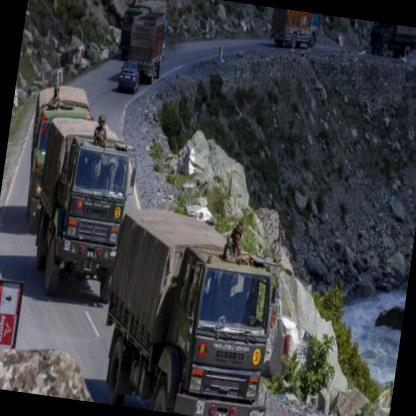car: (118, 61, 140, 92)
truck: (92, 206, 291, 415), (26, 115, 136, 310), (21, 83, 93, 230), (123, 10, 168, 87), (268, 7, 322, 51)
